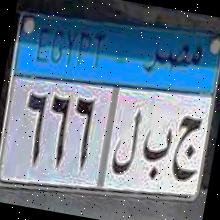6: (40, 89, 74, 168), (17, 89, 49, 166), (66, 94, 98, 170)
baa: (136, 120, 175, 182)
jeem: (166, 111, 208, 188)
laam: (106, 104, 144, 178)
